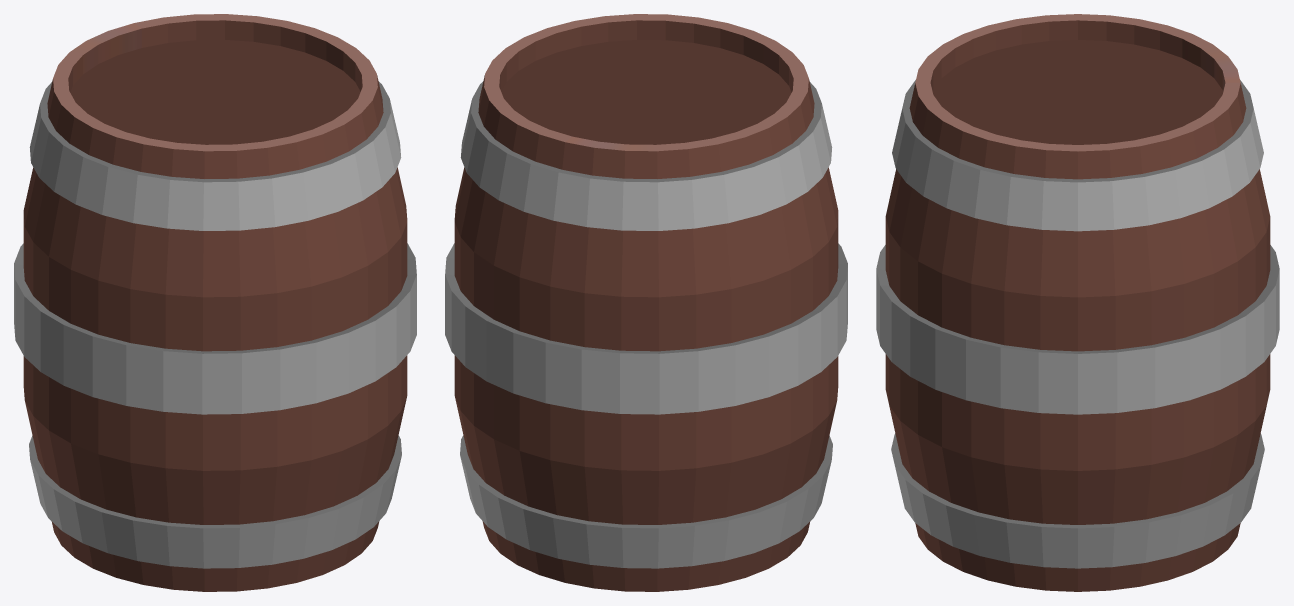
Rendered from Barrel.fbx.
The picture shows the model from 3 angles, left to right: view 1: azimuth 30°, elevation 25°; view 2: azimuth 150°, elevation 25°; view 3: azimuth 270°, elevation 25°; orthographic projection.
Parts seen in each view (by area): view 1: Barrel; view 2: Barrel; view 3: Barrel.
Boxes of the visible parts, box(x1,y1,x2,y2) form: Barrel: box(14, 14, 416, 591); Barrel: box(445, 14, 847, 591); Barrel: box(876, 14, 1279, 591).
Size of the model in its own units: 7529 by 9070 by 7529.
